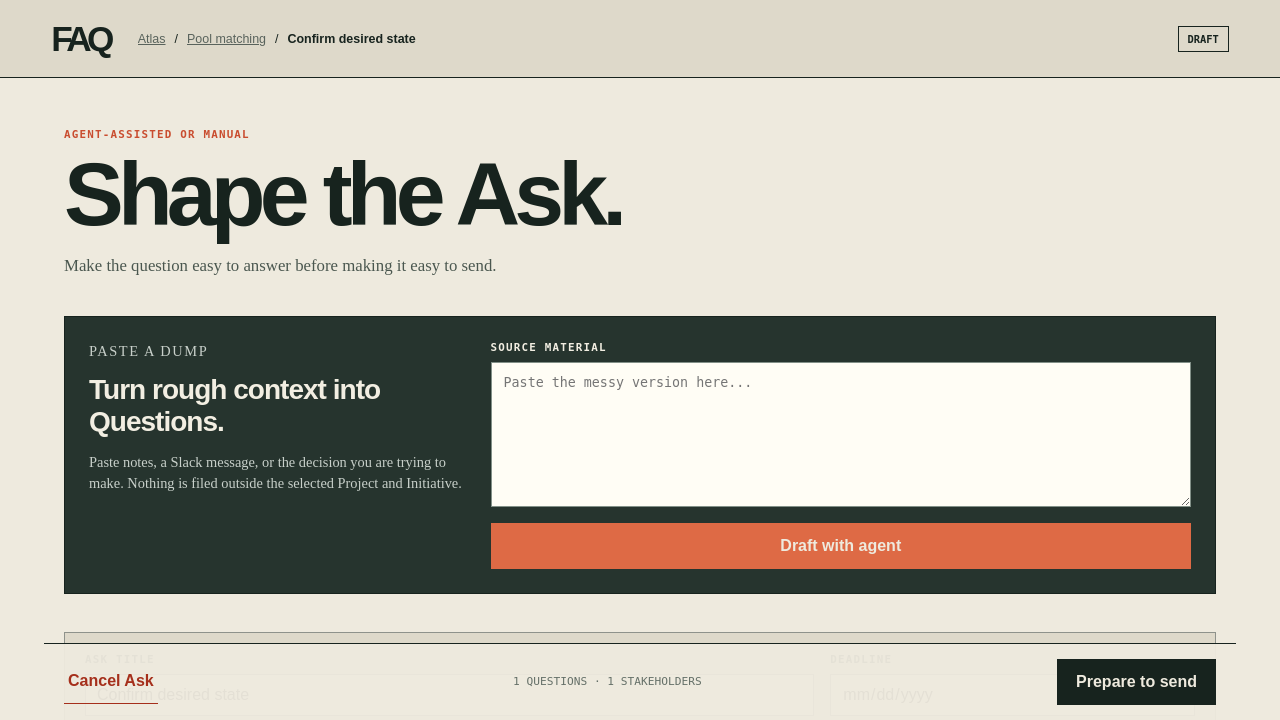
draft authoring › continues a typed assistant clarification
In the text box labelled "Source material": (841, 435) [491,362,1191,507], type "Improve matching"
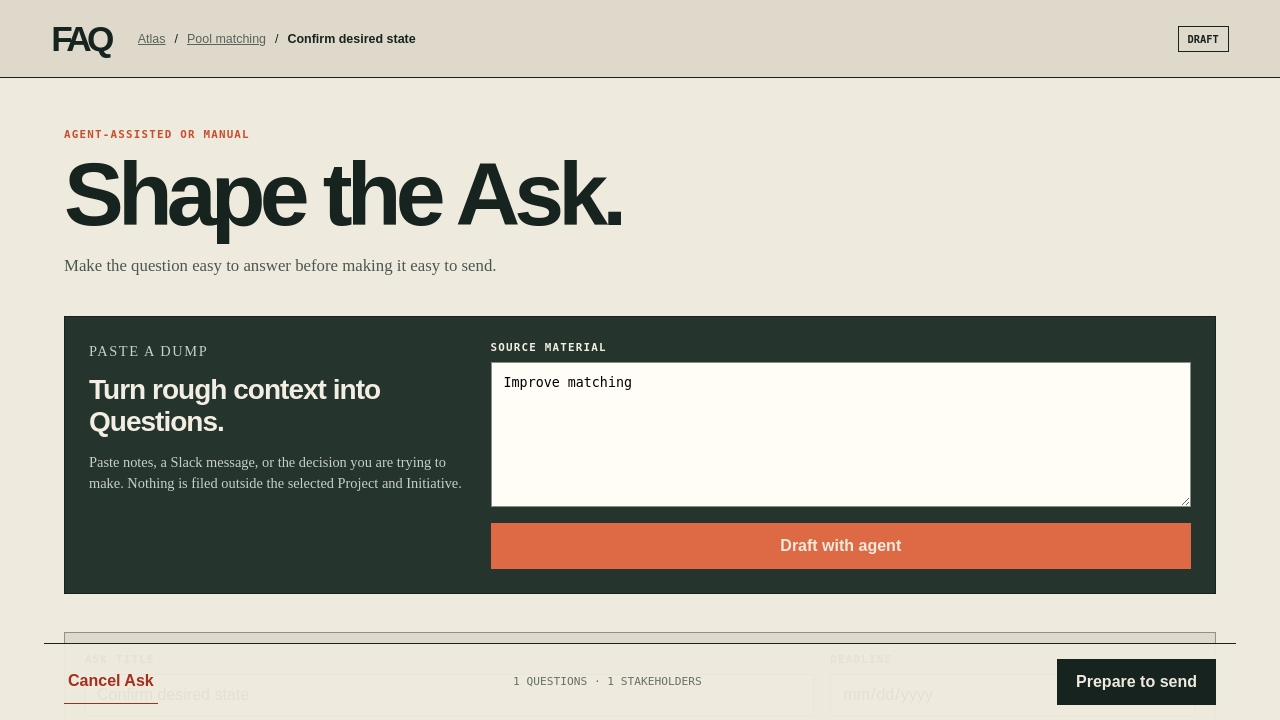
Click the button "Draft with agent": click(841, 546) [491,523,1191,569]
(page scrolled)
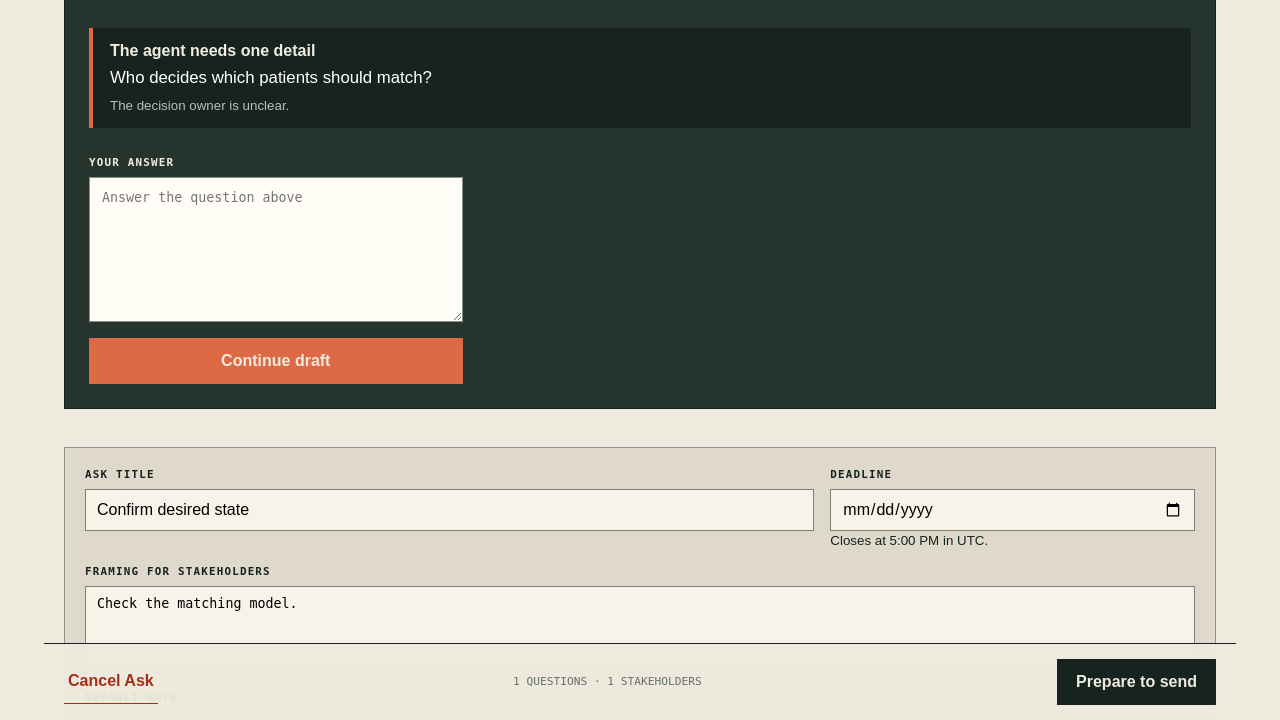
Check: the text "Who decides which patients should match?" is shown, box [110,68,432,87]
Check: the text box named "Clarification answer" is shown, box [89,177,463,322]
Check: the button "Continue draft" is shown, box [89,338,463,384]
